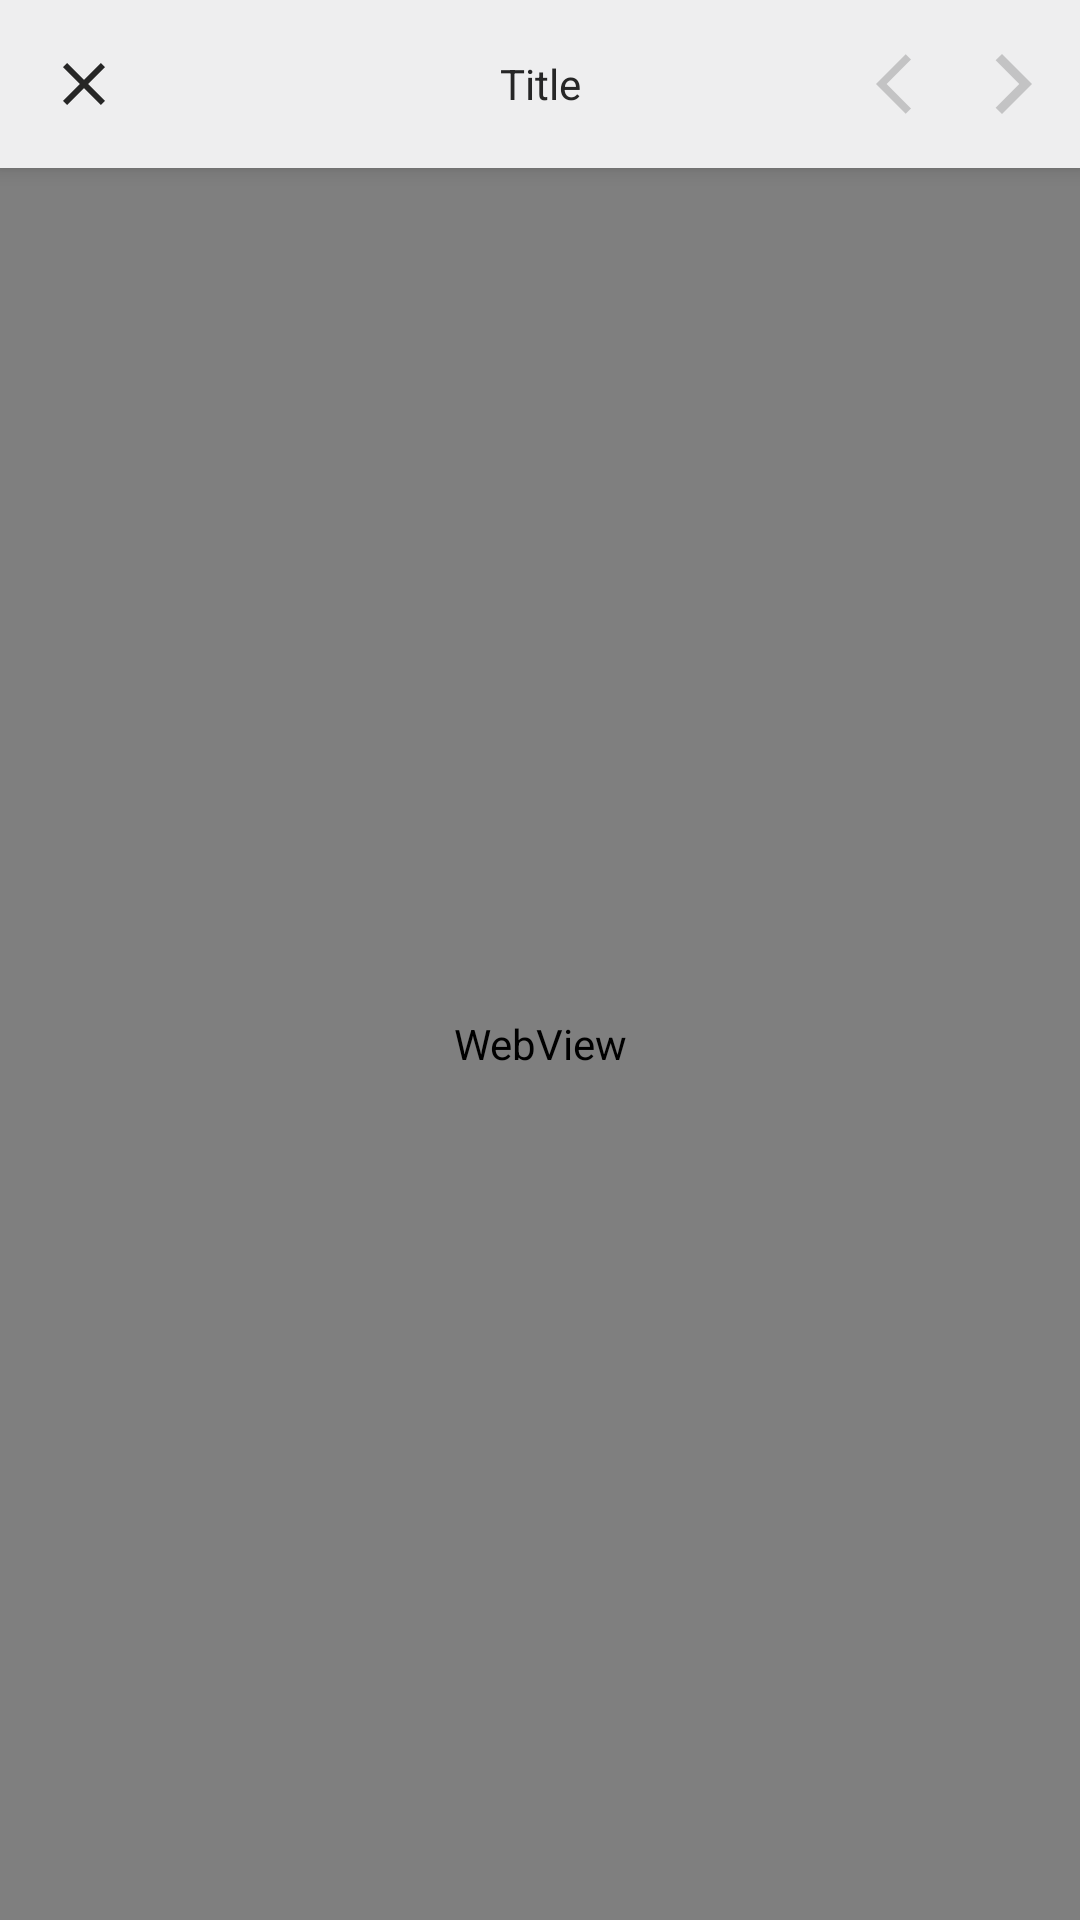

Screen size 1080w x 1920h. Icon name, then its center in pixels as (x=x, y=y):
Back Button: (x=894, y=84)
Close Button: (x=84, y=84)
Forward Button: (x=1013, y=84)
